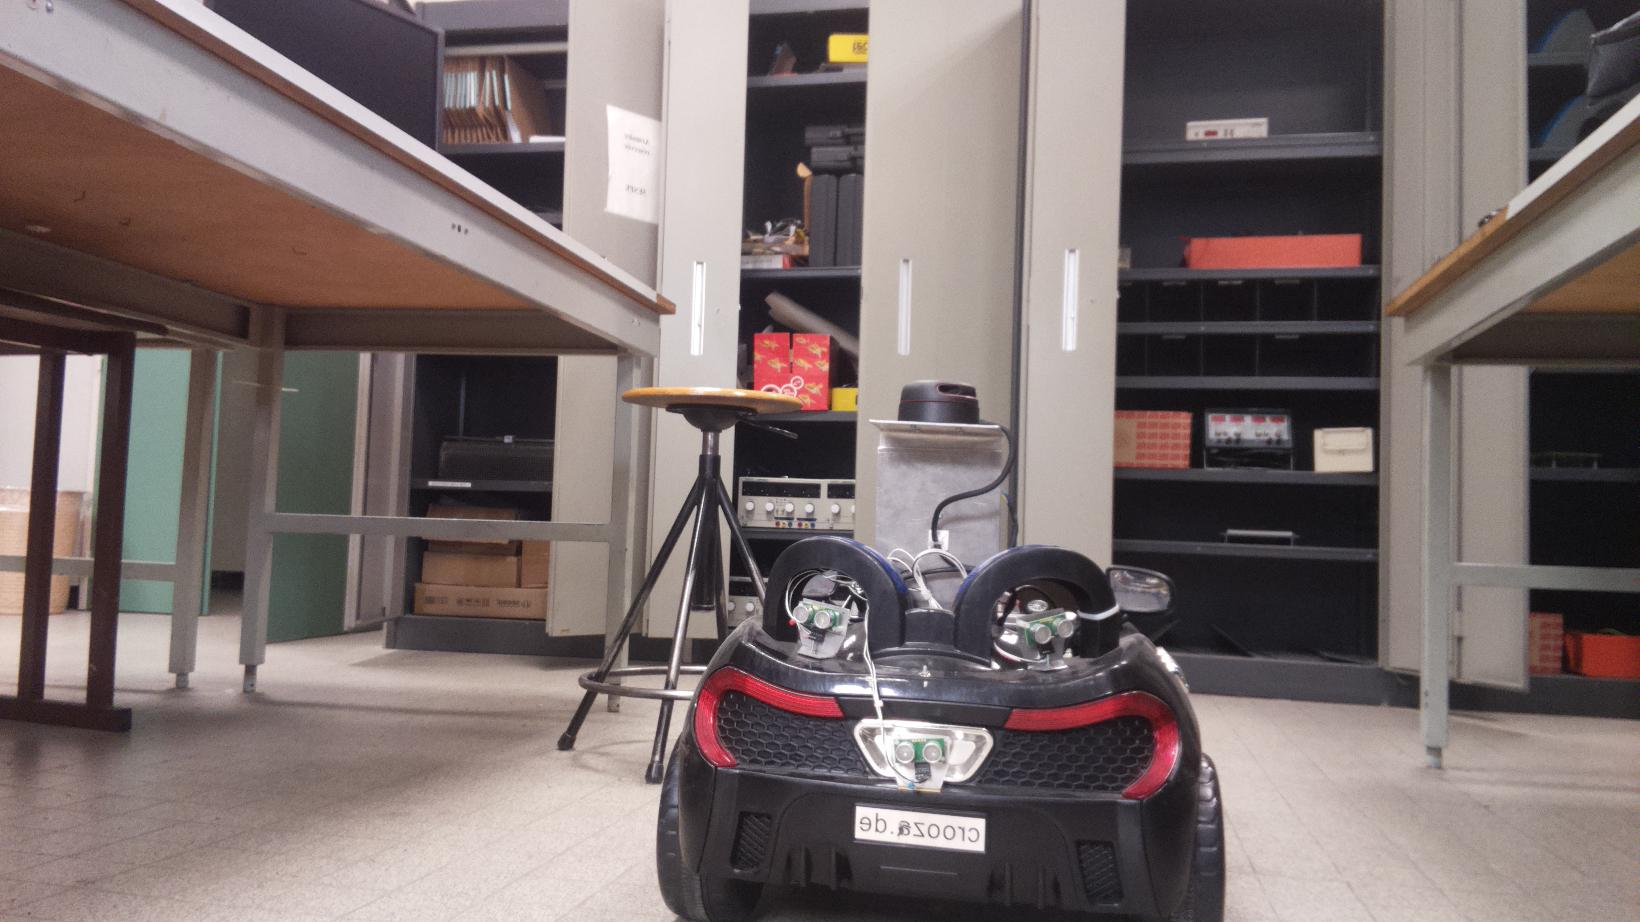big: (649, 530, 1225, 922)
